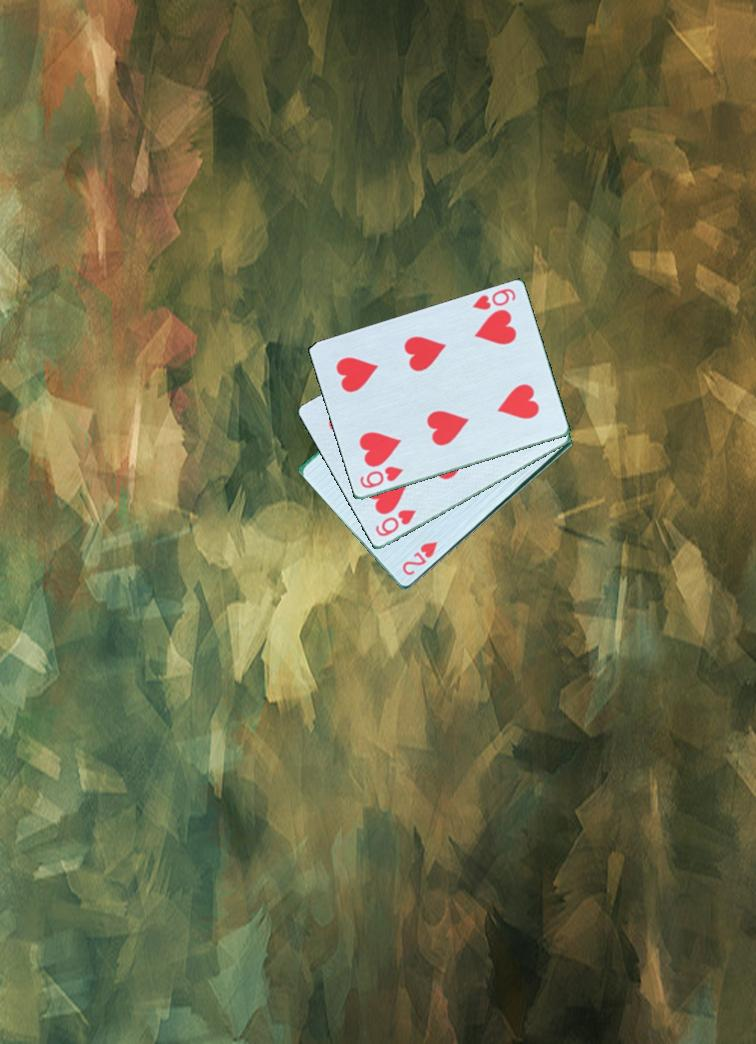2h: (397, 538, 441, 579)
6h: (371, 506, 419, 540), (356, 463, 406, 492), (468, 285, 518, 313)
